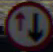Two way: (3, 7, 47, 41)
